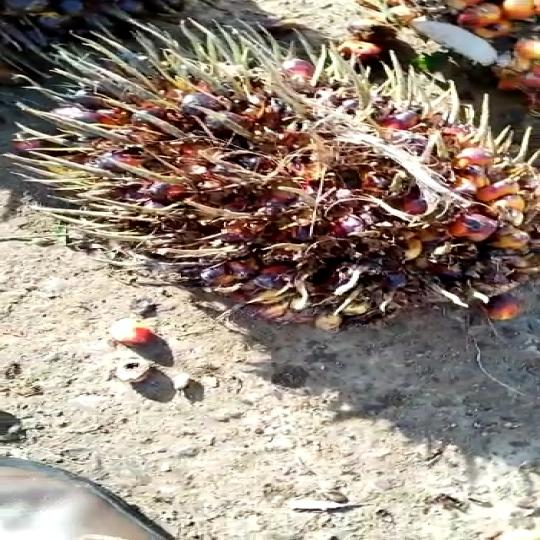terlalu masak: (0, 9, 540, 337)
